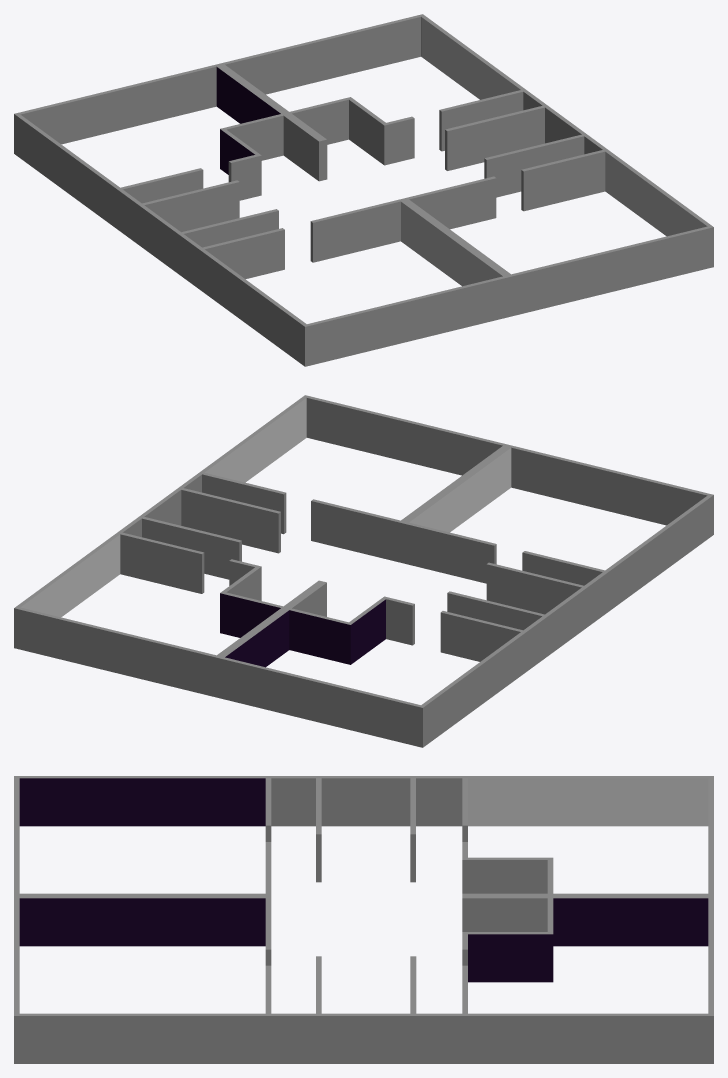
The model's file is ParedesAndar.obj.
3 views of the same model, one above another, from view 1: azimuth 30°, elevation 25°; view 2: azimuth 150°, elevation 25°; view 3: azimuth 270°, elevation 25° (orthographic). The views are drawn at different scales.
Visible parts, largest first — view 1: Paredes_andar; view 2: Paredes_andar; view 3: Paredes_andar.
Part boxes in pixels (x1=…): Paredes_andar: x1=14, y1=14, x2=713, y2=366; Paredes_andar: x1=14, y1=395, x2=713, y2=747; Paredes_andar: x1=14, y1=776, x2=713, y2=1063.
Bounding box in the file's own units: 30 × 2.8 × 37.
